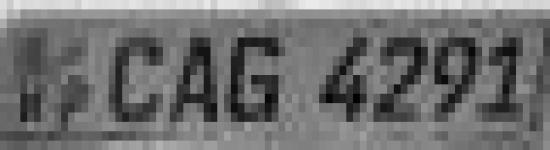1: (479, 28, 530, 128)
2: (371, 29, 432, 128)
4: (317, 30, 373, 129)
9: (433, 27, 480, 127)
A: (170, 24, 226, 132)
C: (106, 24, 167, 130)
G: (224, 25, 290, 136)
P: (55, 66, 96, 135)
W: (16, 72, 49, 129)
